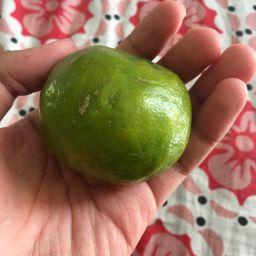Unripe: (38, 46, 192, 187)
